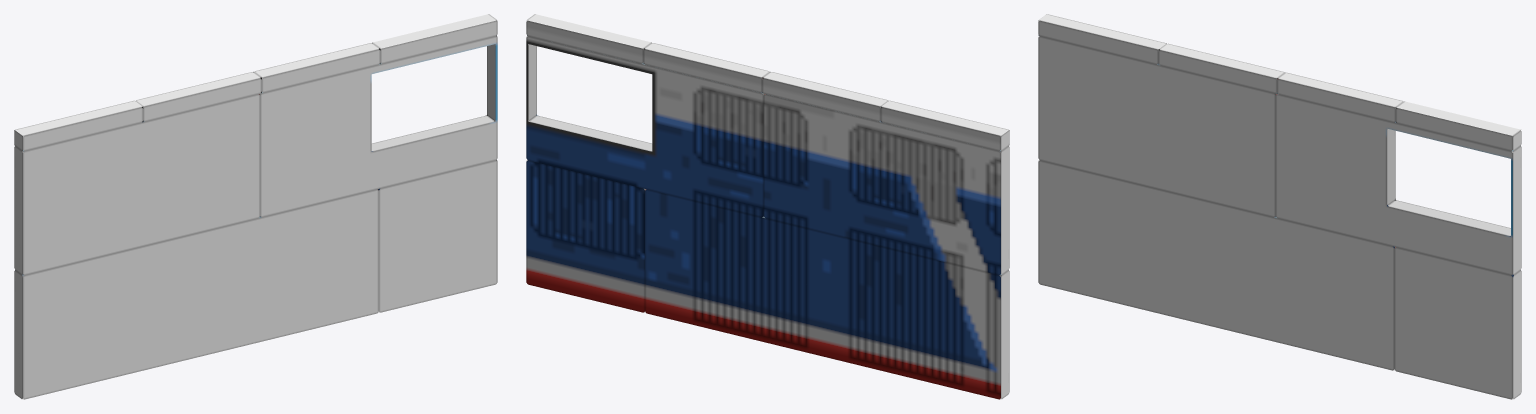
Rendered from df4d_left_board_f.obj.
3 views of the same model, side by side, from view 1: azimuth 30°, elevation 25°; view 2: azimuth 150°, elevation 25°; view 3: azimuth 330°, elevation 25° (orthographic).
Parts seen in each view (by area): view 1: df4d_left_broad_f; view 2: df4d_left_broad_f; view 3: df4d_left_broad_f.
Part boxes in pixels (bbox=[...]): df4d_left_broad_f: bbox=[14, 14, 497, 399]; df4d_left_broad_f: bbox=[526, 14, 1009, 399]; df4d_left_broad_f: bbox=[1038, 14, 1521, 399].
Size of the model in its own units: 4 by 2.12 by 0.1258.
